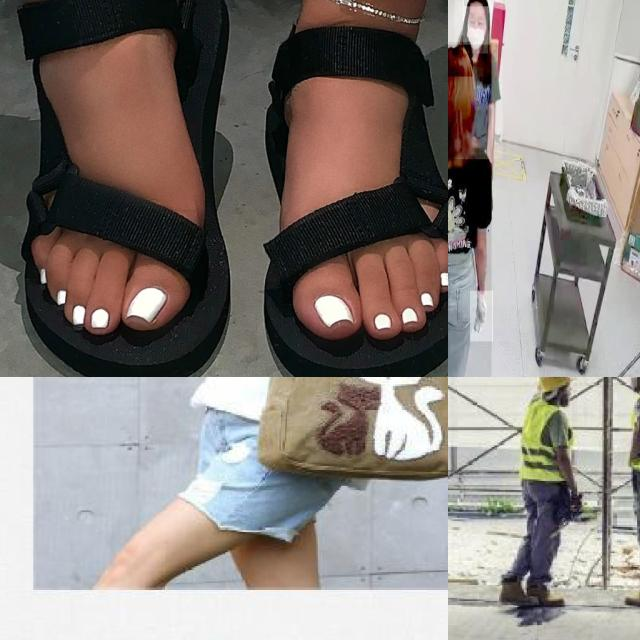Sandals: (0, 0, 231, 377), (261, 0, 448, 377)
face_mask: (463, 0, 488, 53)
hand_glove: (470, 291, 494, 342)
head_helmet: (532, 377, 572, 392)
head_nohelmet: (448, 41, 473, 77), (463, 0, 488, 7)
person: (148, 377, 448, 616), (499, 377, 587, 611), (448, 44, 492, 377), (454, 0, 503, 159), (621, 377, 640, 617)
shoes: (522, 578, 566, 610), (497, 580, 540, 610), (624, 585, 640, 613)
vest: (522, 399, 574, 484)
